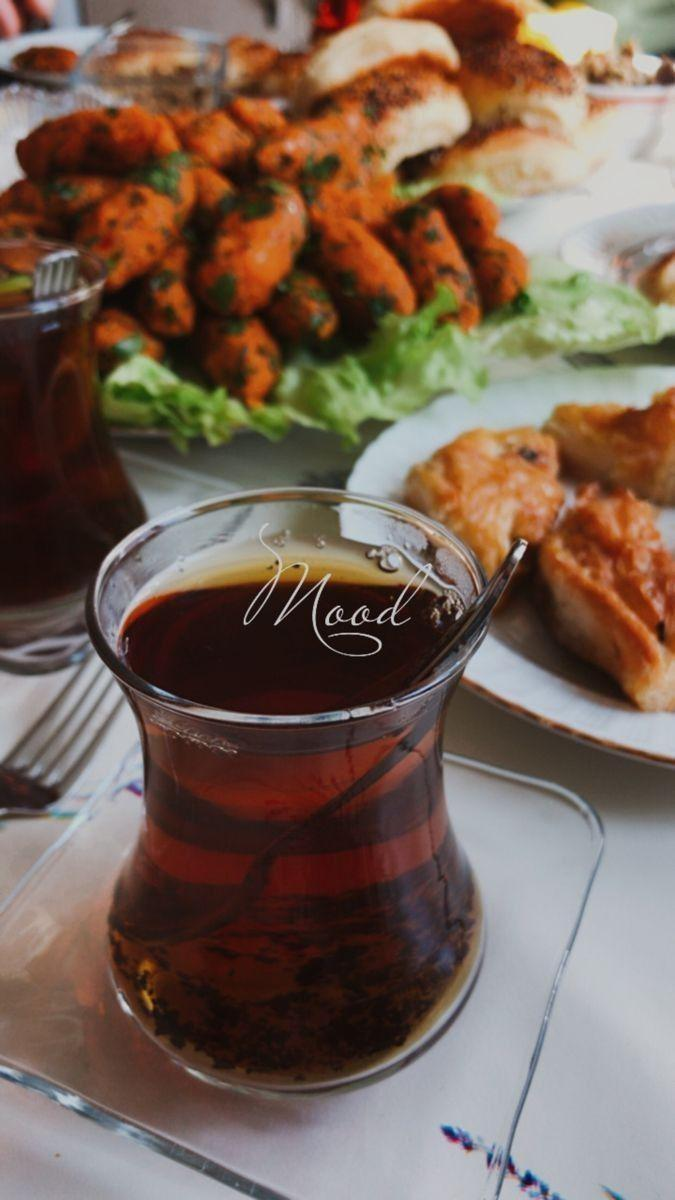glass-normal: (87, 480, 492, 1112)
